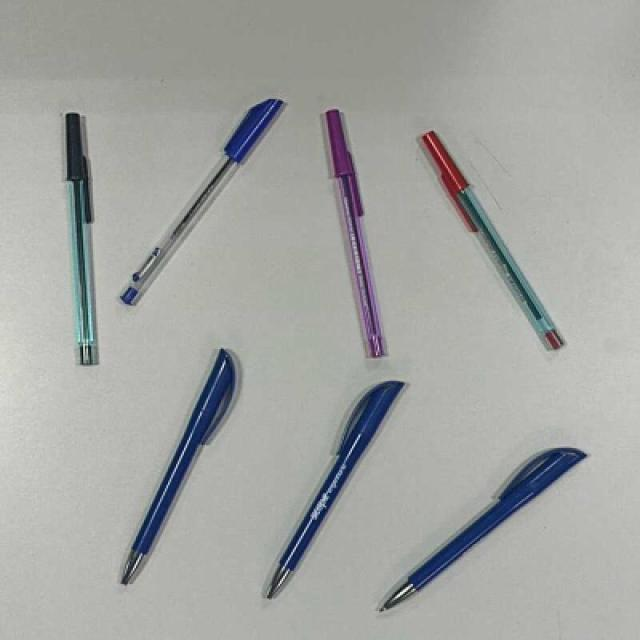caneta: (365, 432, 588, 616), (247, 367, 407, 604), (111, 88, 284, 307), (417, 128, 565, 357), (116, 349, 249, 591), (321, 109, 392, 357), (66, 112, 99, 366)
